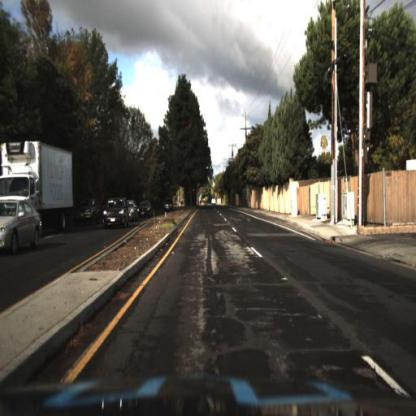car: (1, 199, 44, 256), (75, 196, 103, 234), (100, 200, 128, 230), (103, 199, 130, 230), (128, 195, 141, 230), (83, 197, 97, 227), (139, 196, 153, 220)
truck: (1, 143, 83, 230), (1, 140, 74, 235)
